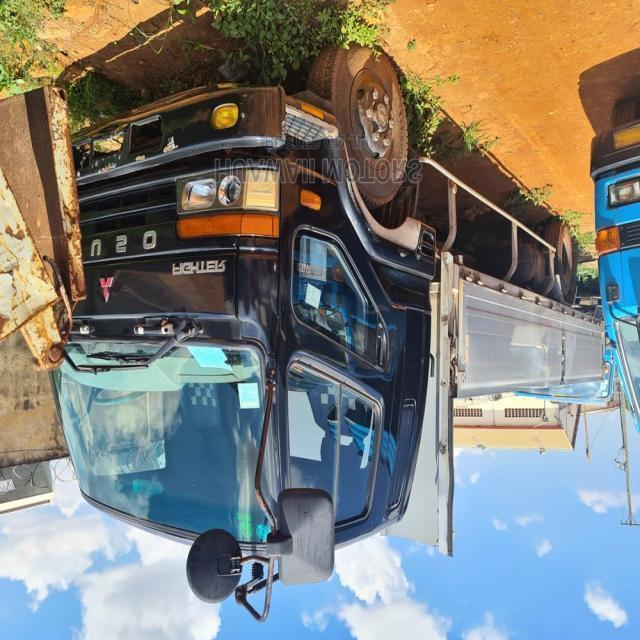truck: (37, 44, 604, 620)
